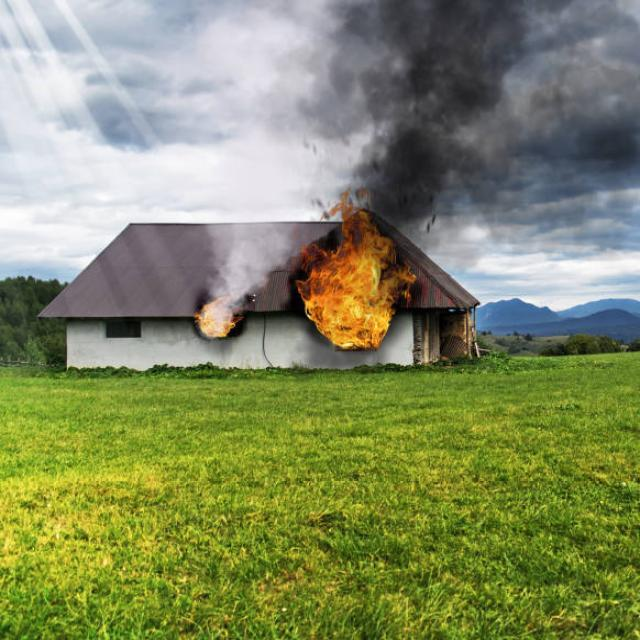Fire: (305, 209, 407, 363), (200, 297, 240, 344)
Smoke: (316, 3, 640, 239)
